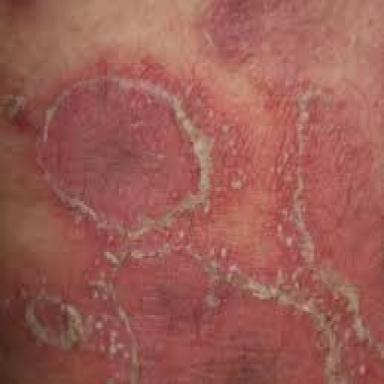Psoriasis: (2, 3, 381, 383)
